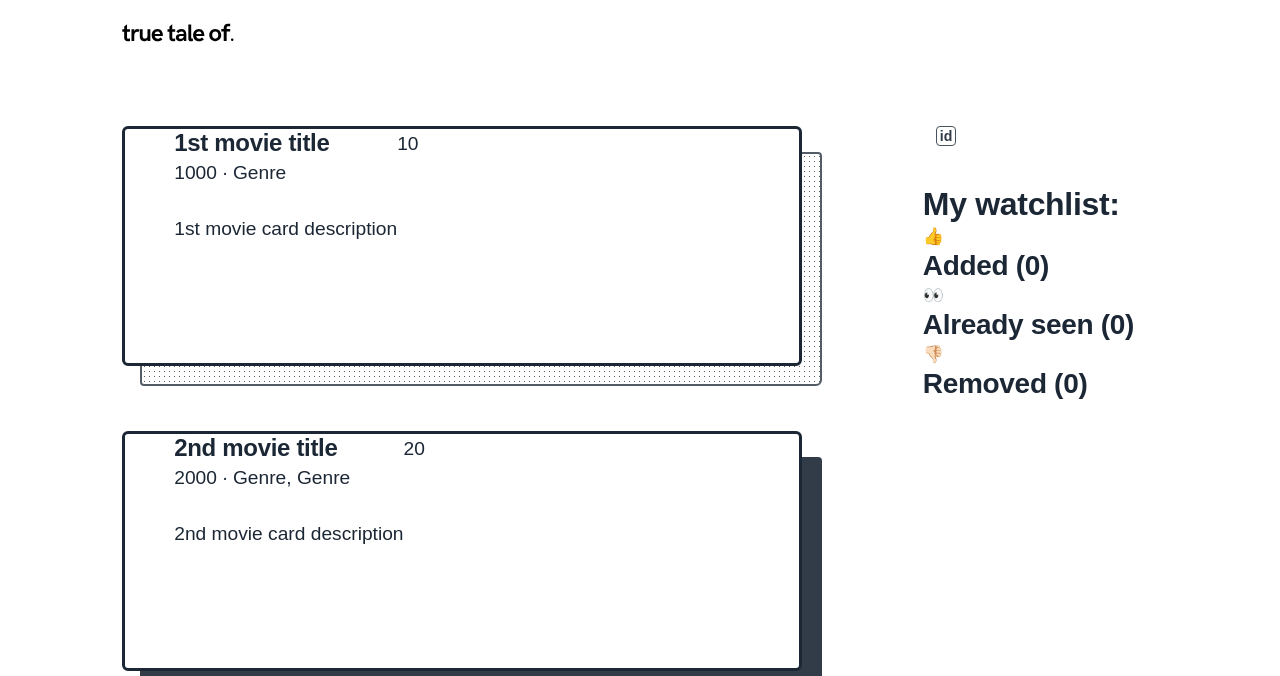
Test: Movie card › should expand when clicked twice
The image size is (1280, 676).
Click the element with test id "cy-movie-card" that starts with "1st movie title" at (462, 246), box x1=122 y1=126 x2=802 y2=366
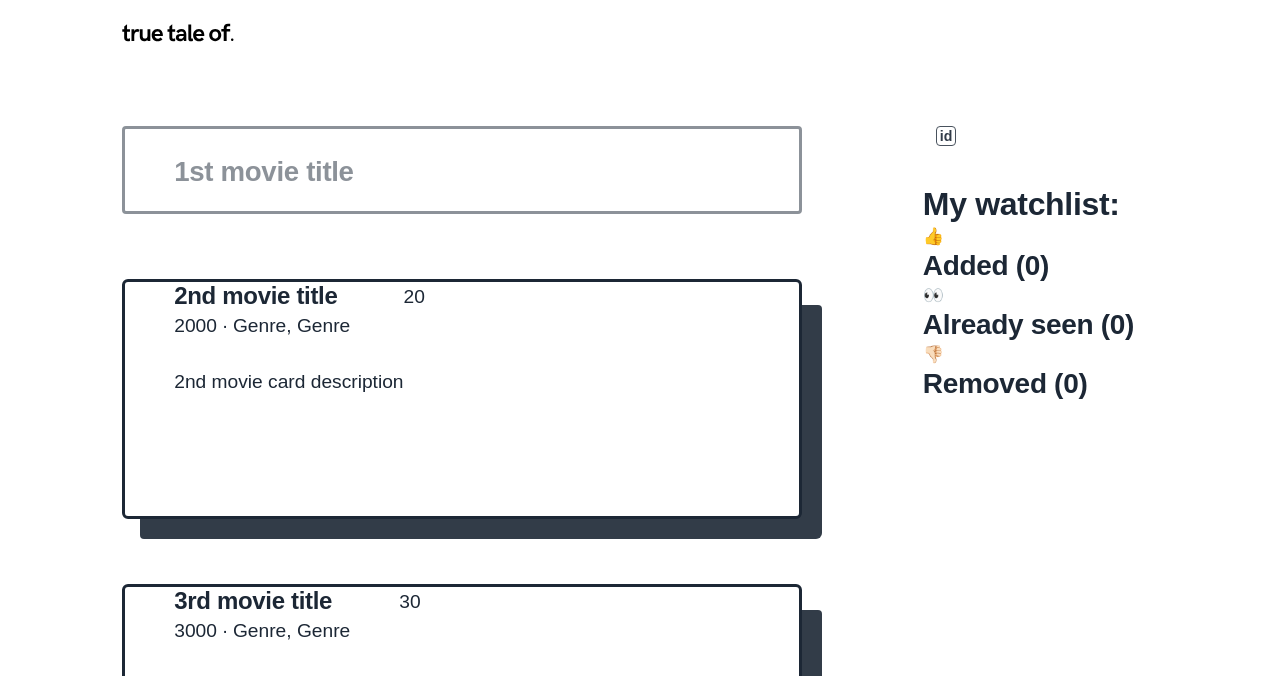
Click the heading "1st movie title" at (264, 172), box x1=174 y1=155 x2=353 y2=188
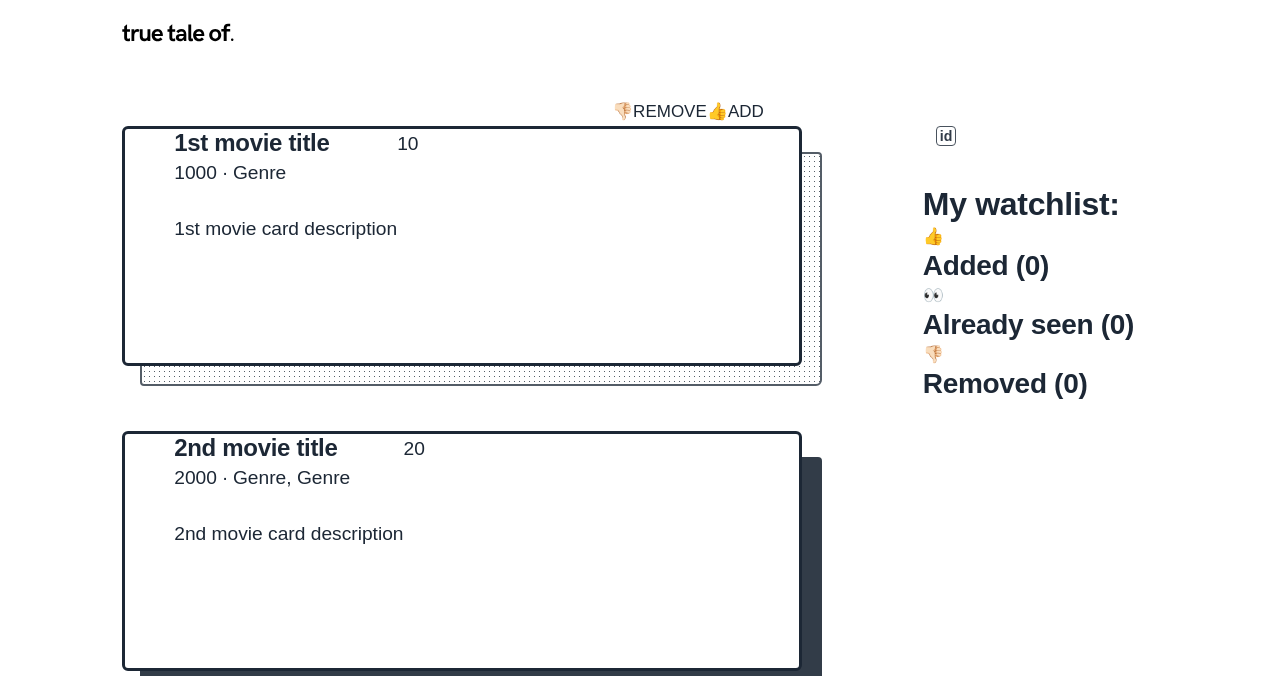
Check: the text "1st movie card description" is shown, box x1=174 y1=214 x2=397 y2=243
